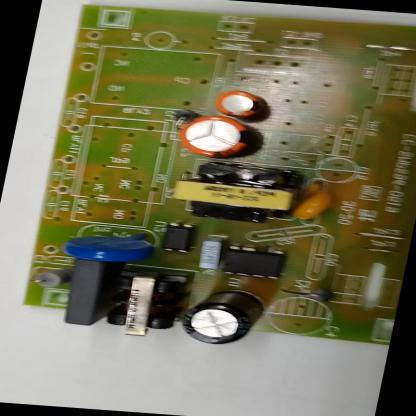Cap1: (177, 113, 251, 156)
Cap2: (215, 90, 259, 115)
Cap3: (178, 288, 264, 347)
MOSFET: (223, 245, 286, 279)
Mov: (59, 233, 156, 264)
Resistor: (27, 268, 69, 288)
Transformer: (171, 164, 300, 224), (104, 276, 184, 338)
